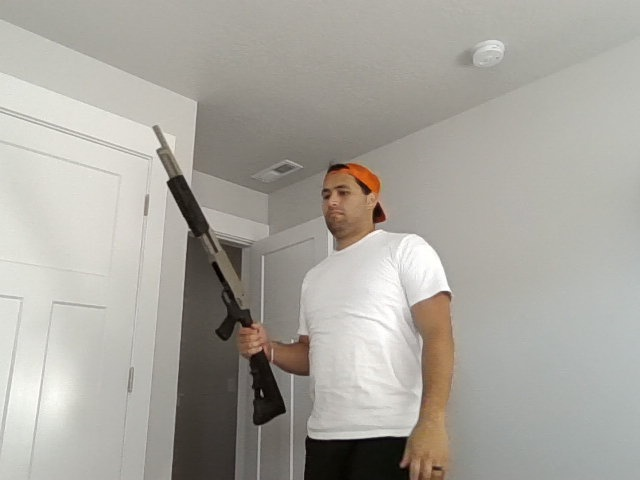shotgun: (151, 123, 287, 426)
